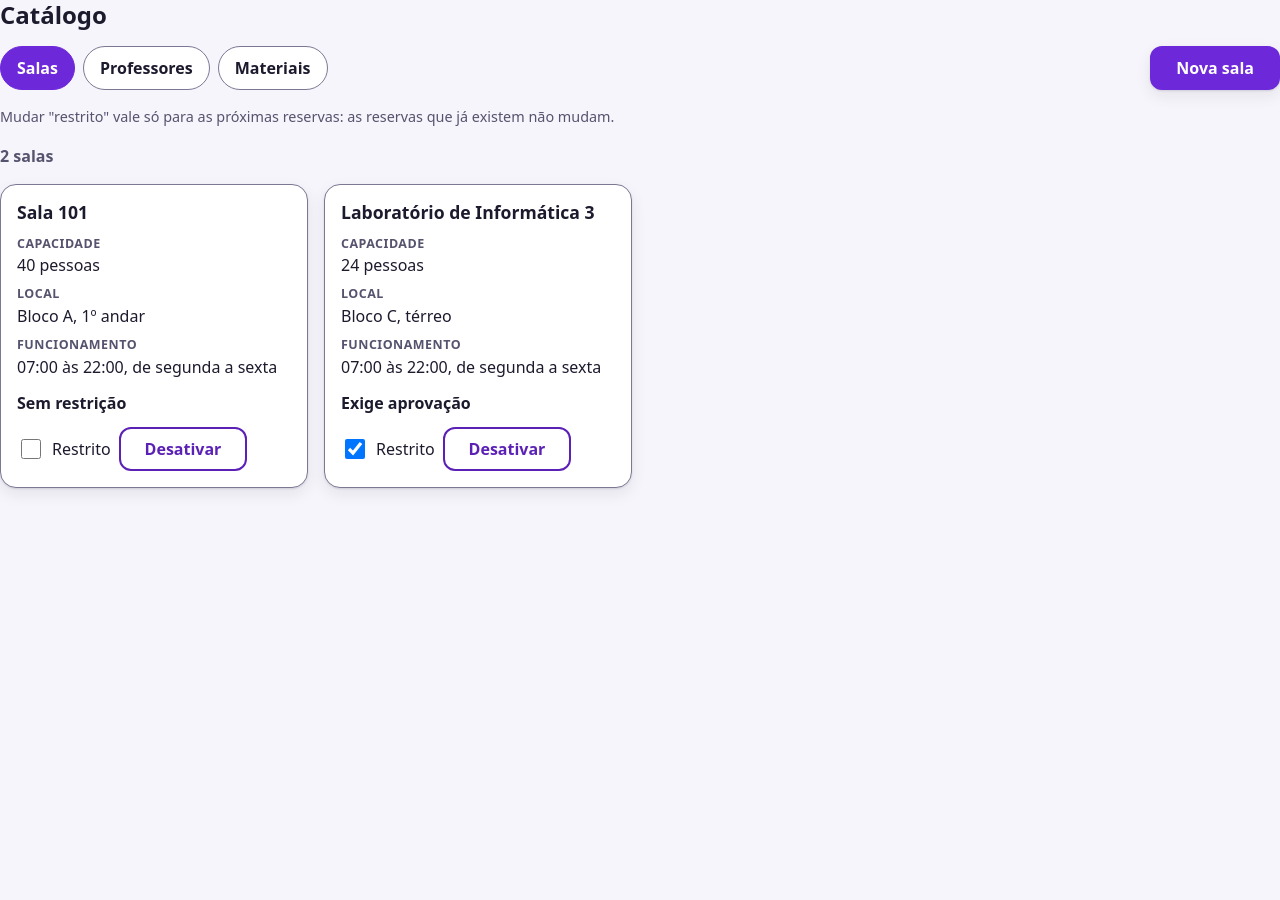
Test: PaginaDoCatalogo: cadastrar sala › com campos em branco, não envia nada e diz o que falta, com o foco no primeiro campo com problema
This screenshot has width=1280, height=900.
Click the button "Nova sala". click: [1215, 68]
box: [1150, 46, 1279, 90]
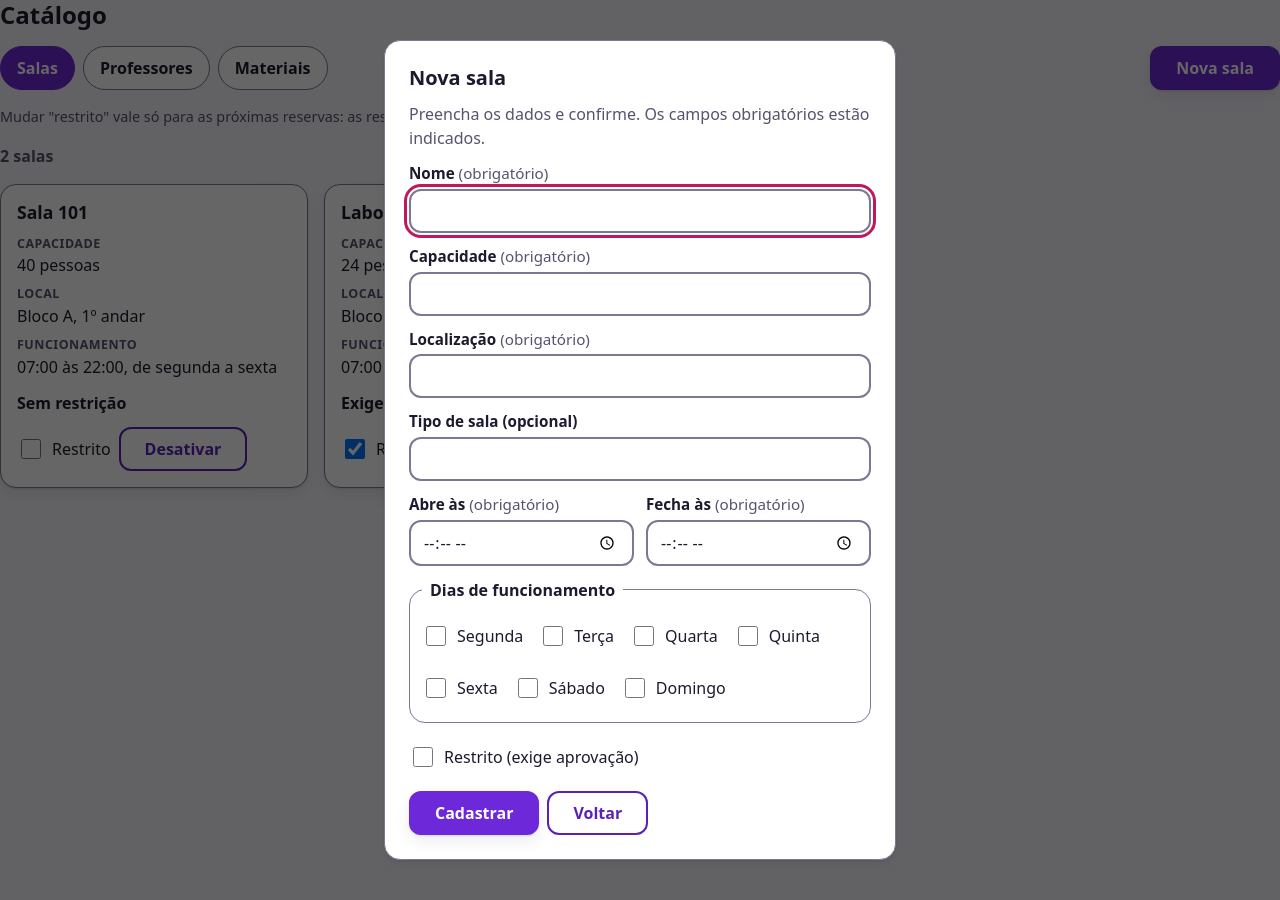
Click the button "Cadastrar". click: [474, 813]
box: [409, 791, 539, 835]
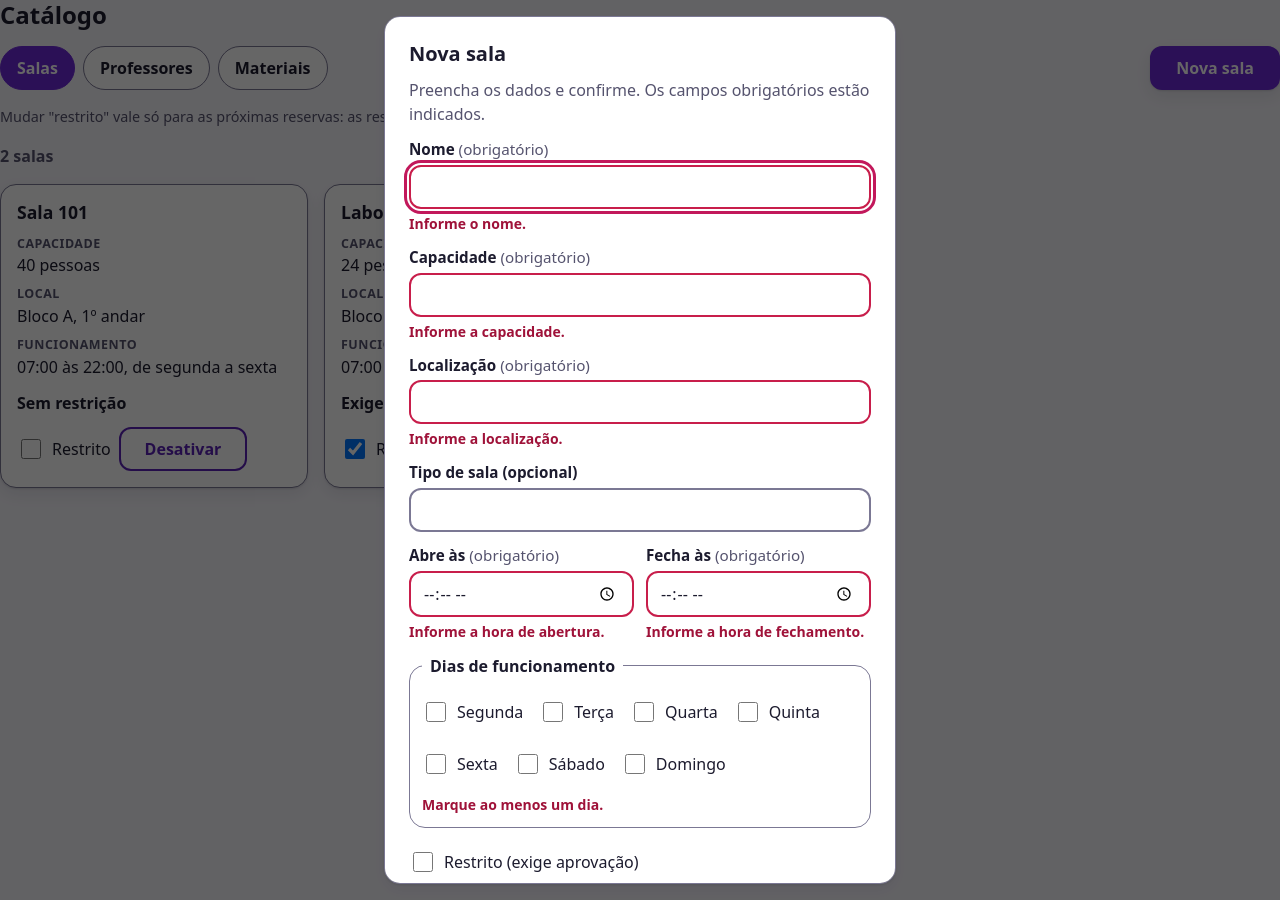
Check: the text "Informe o nome." is shown, box [409, 214, 526, 233]
Check: the text "Informe a capacidade." is shown, box [409, 322, 565, 341]
Check: the text "Informe a localização." is shown, box [409, 429, 563, 448]
